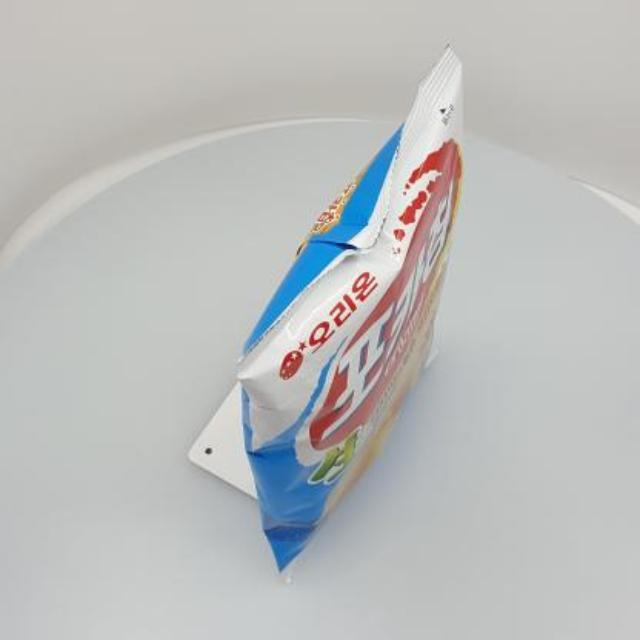snack_bag: (216, 21, 532, 605)
